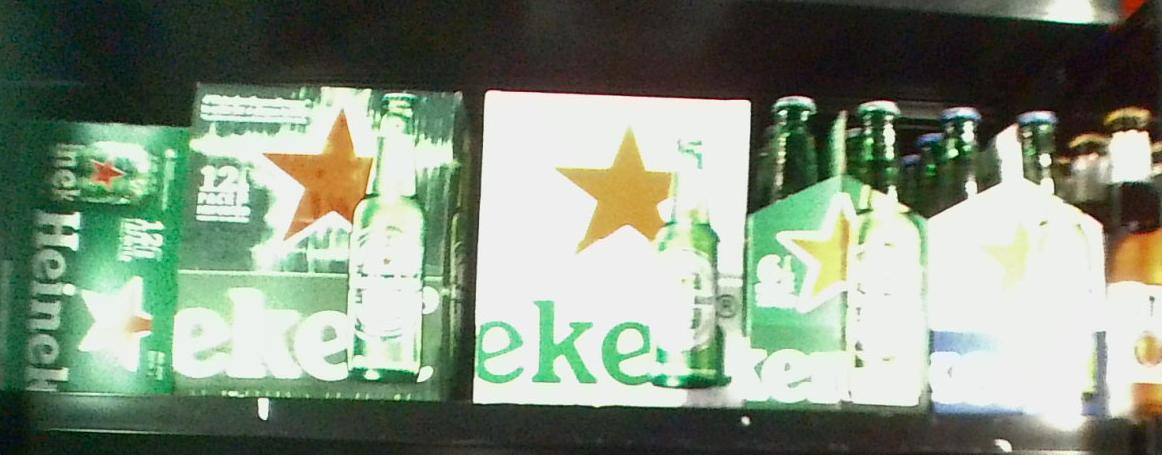bottle: (193, 86, 472, 399), (482, 89, 750, 403), (927, 95, 1109, 424), (755, 93, 930, 410), (1, 121, 181, 392)
